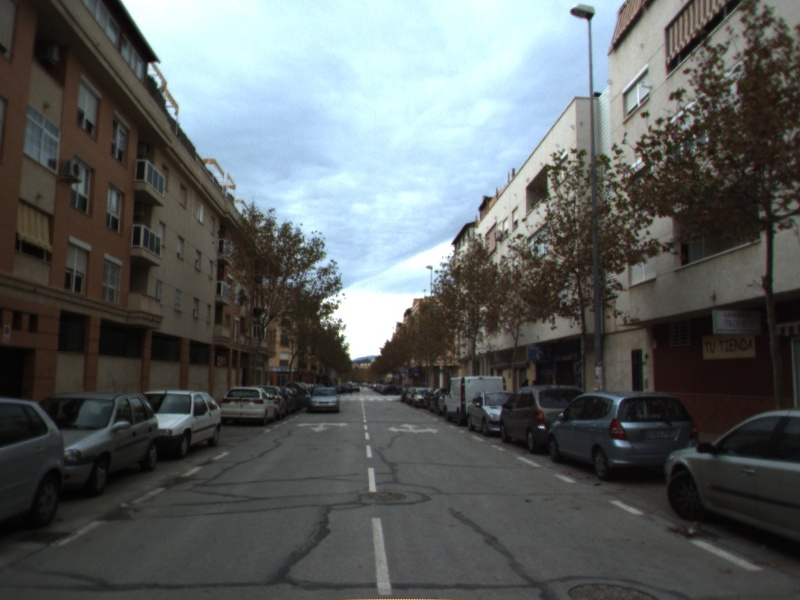STRAIGHT_LEFT_RIGHT: (385, 421, 441, 435)
